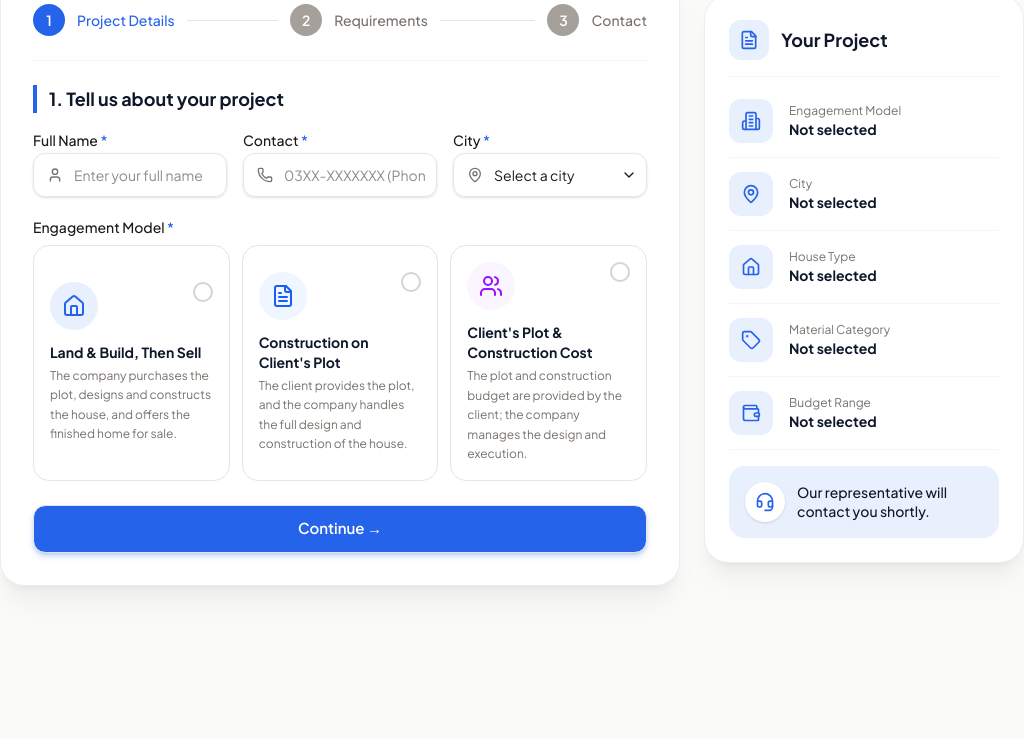
Test: IntakeForm — wizard › does not leave step 2 until the requirements are valid
This screenshot has width=1024, height=739.
Type "Ahmed Raza" into the field labelled "Full Name *" at (130,175), box [33,153,227,197]
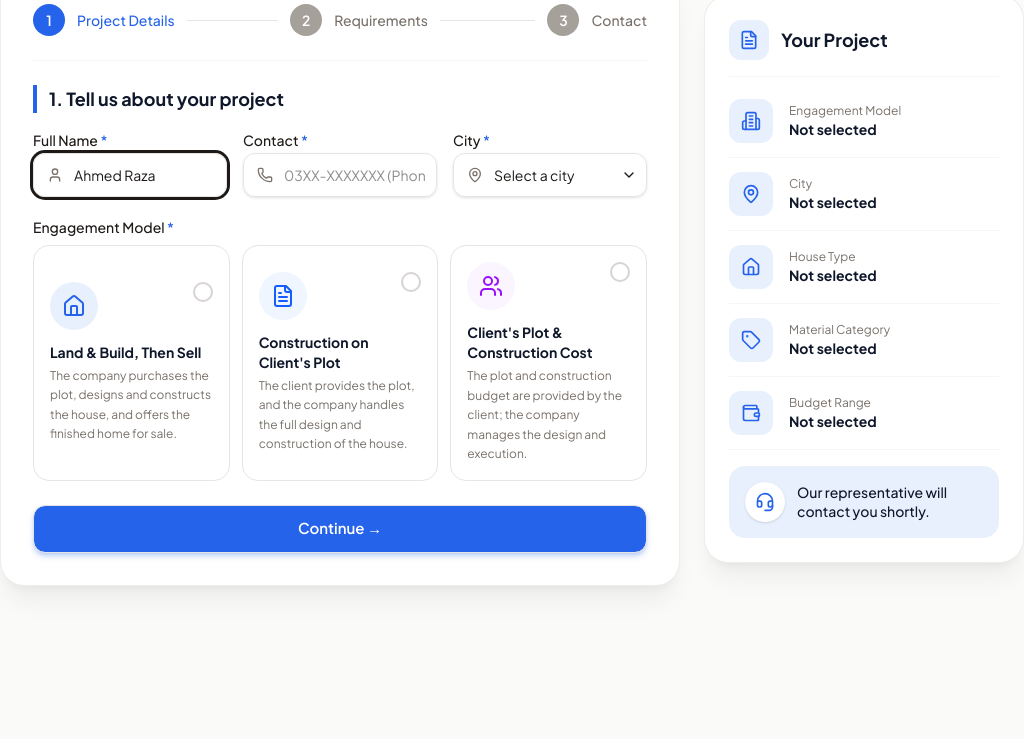
Type "+92-300-1234567" into the field labelled "Contact *" at (340,175), box [243,153,437,197]
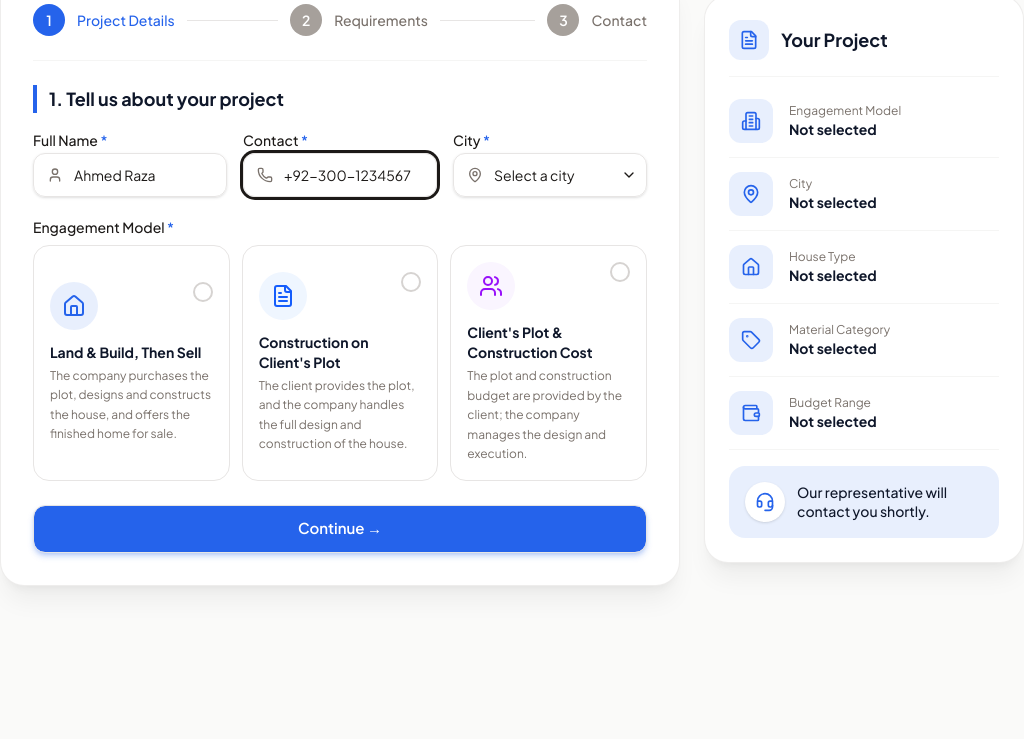
Select "Hyderabad" in the dropdown labelled "City *" at (550,175), box [453,153,647,197]
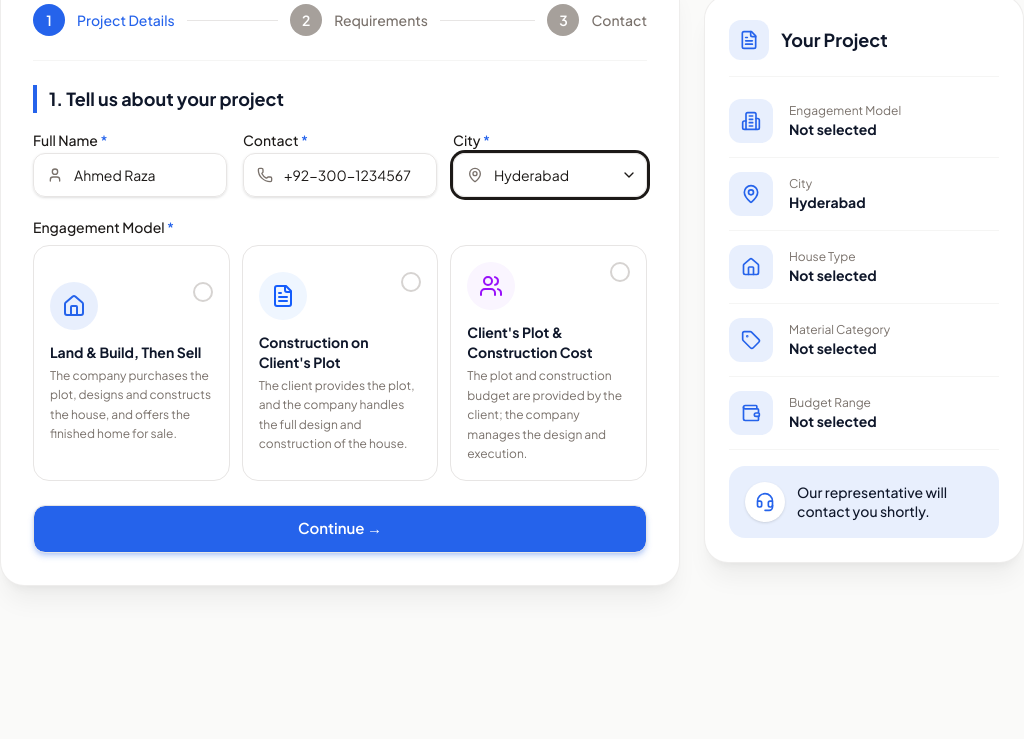
Click the radio button labelled "Construction on Client's Plot" at (340,363), box [242,245,438,480]
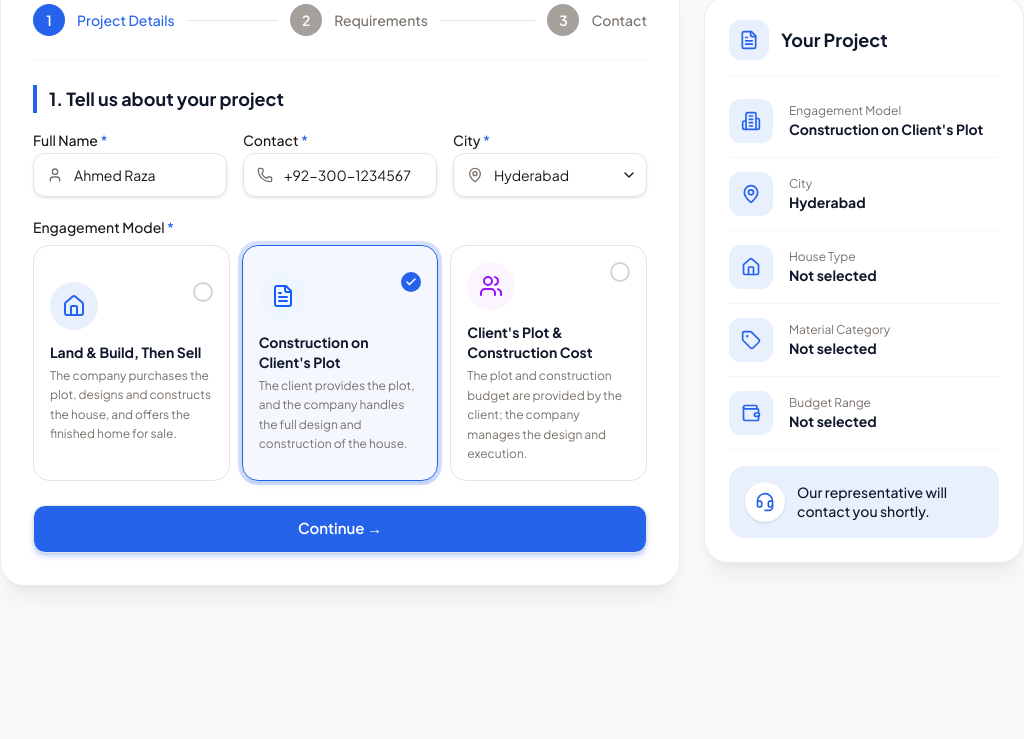
Click the button "Continue →" at (340,528), box [33,504,647,552]
(page scrolled)
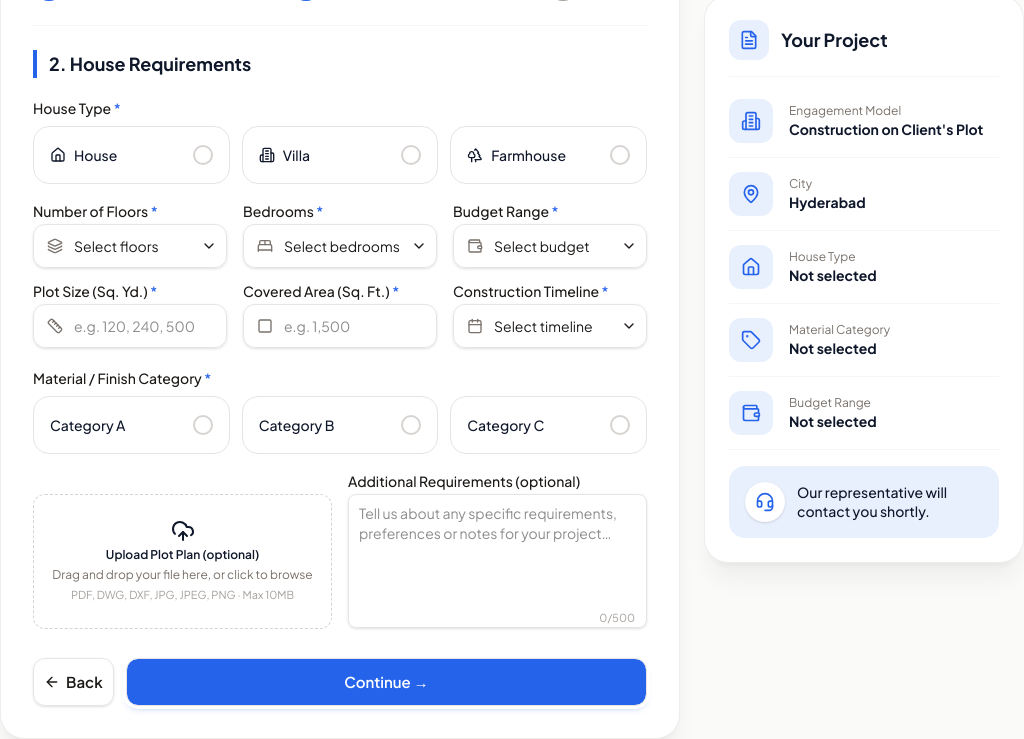
Click the button "Continue →" at (386,682), box [126,658,647,706]
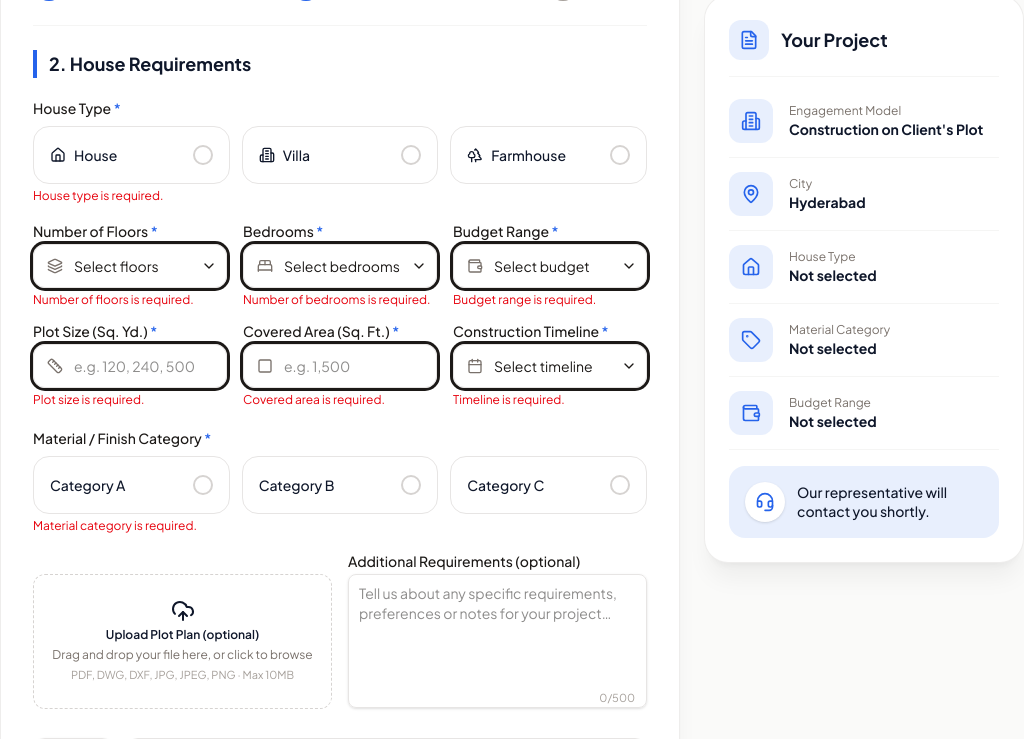
Now the text "House type is required." is shown, box [33,188,164,203]
Now the text "Number of floors is required." is shown, box [33,292,194,307]
Now the text "Plot size is required." is shown, box [33,392,144,407]
